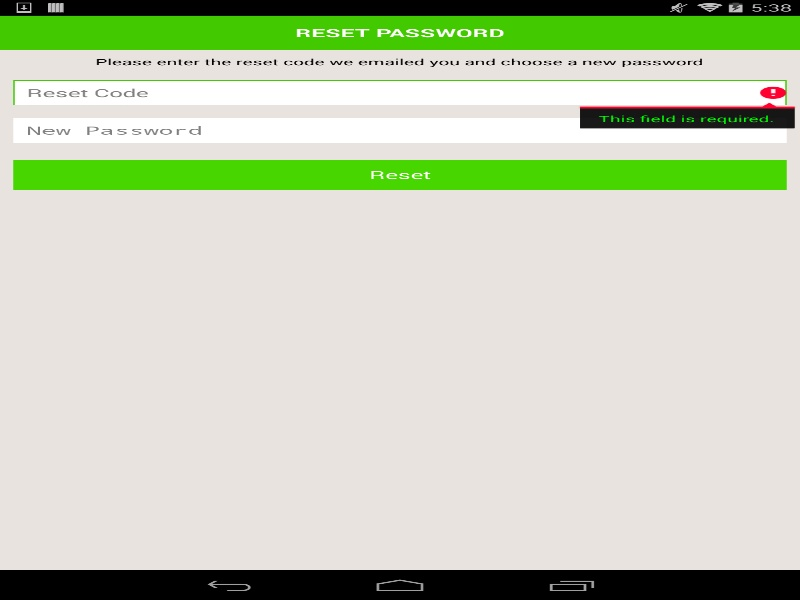Button: (13, 159, 786, 189)
Input: (13, 80, 786, 105), (13, 117, 786, 142)
